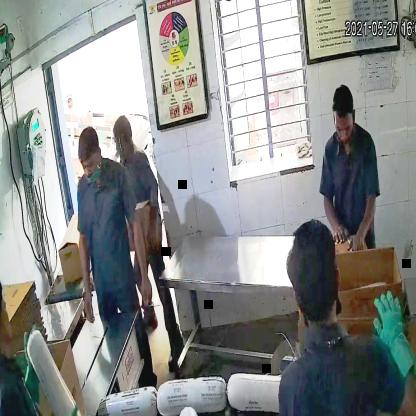no_goggles: (75, 153, 107, 179), (333, 116, 359, 140)
